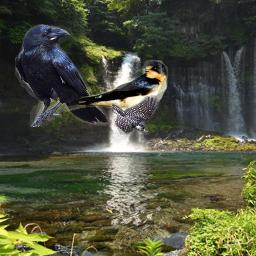Crow: (15, 24, 110, 127)
Swallow: (60, 60, 168, 116)
Woodpecker: (112, 95, 160, 135)
